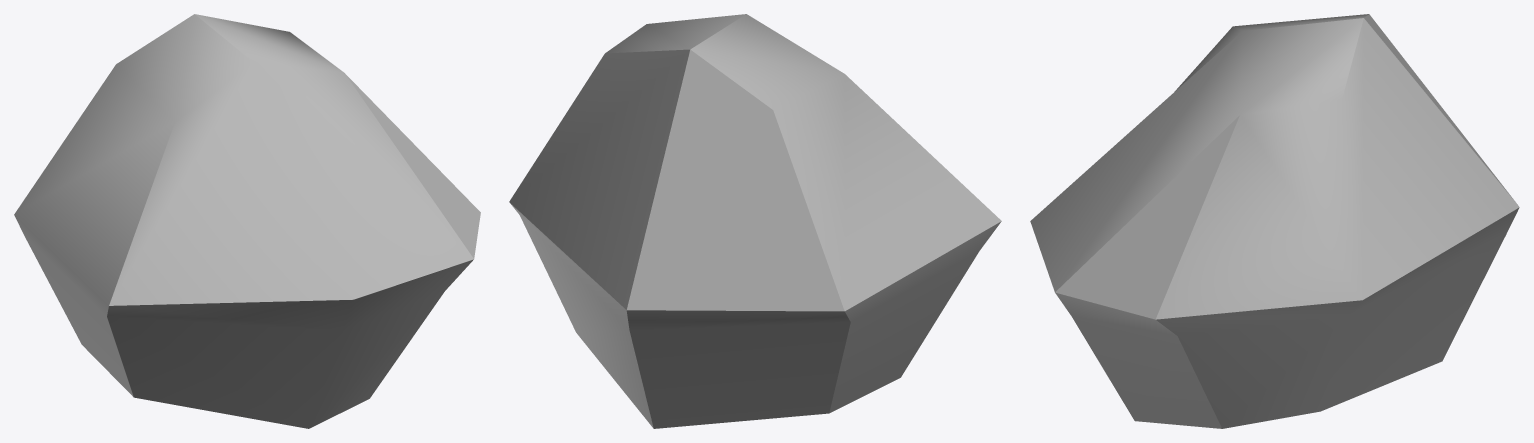
The model's file is Ground Stone 3.fbx.
3 views of the same model, side by side, from view 1: azimuth 30°, elevation 25°; view 2: azimuth 150°, elevation 25°; view 3: azimuth 270°, elevation 25° (orthographic). The views are drawn at different scales.
Visible parts, largest first — view 1: Ground_Stone_3; view 2: Ground_Stone_3; view 3: Ground_Stone_3.
Boxes of the visible parts, x1,y1,x2,y2 form: Ground_Stone_3: [14, 14, 480, 428]; Ground_Stone_3: [509, 14, 1001, 428]; Ground_Stone_3: [1030, 14, 1519, 428].
Size of the model in its own units: 1.45 by 1.26 by 1.48.
